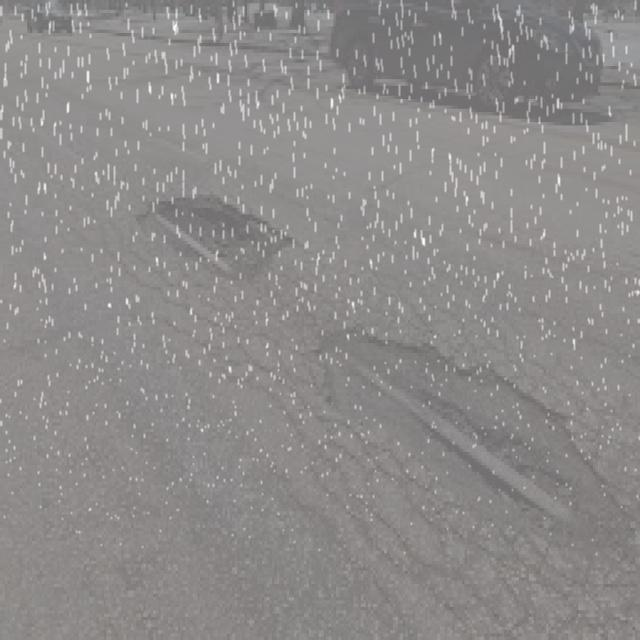Pothole: (284, 305, 609, 604), (113, 180, 290, 287)
